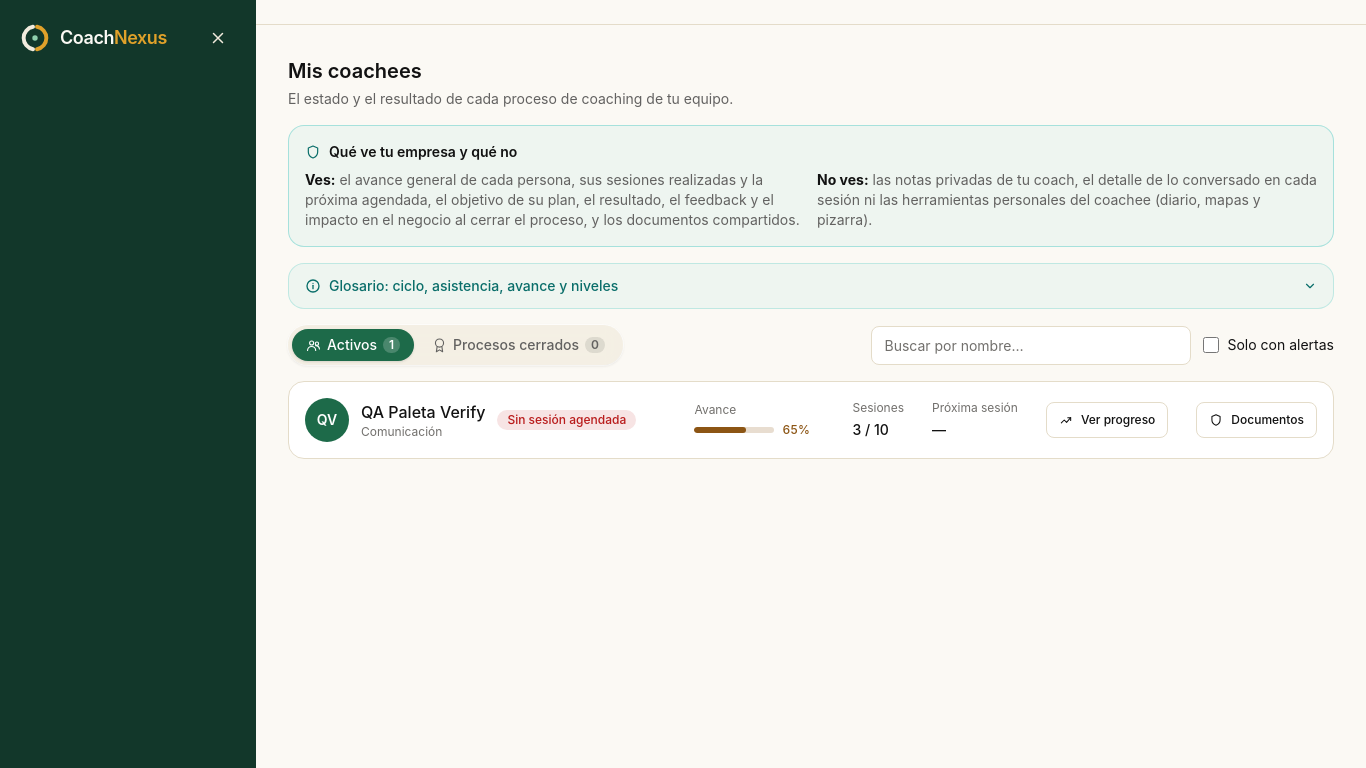
Scenario: CoacheesView (empresa) › opens the progreso modal for an active coachee
The image size is (1366, 768).
Click the button "Ver progreso": (1107, 420) x1=1046 y1=402 x2=1168 y2=438
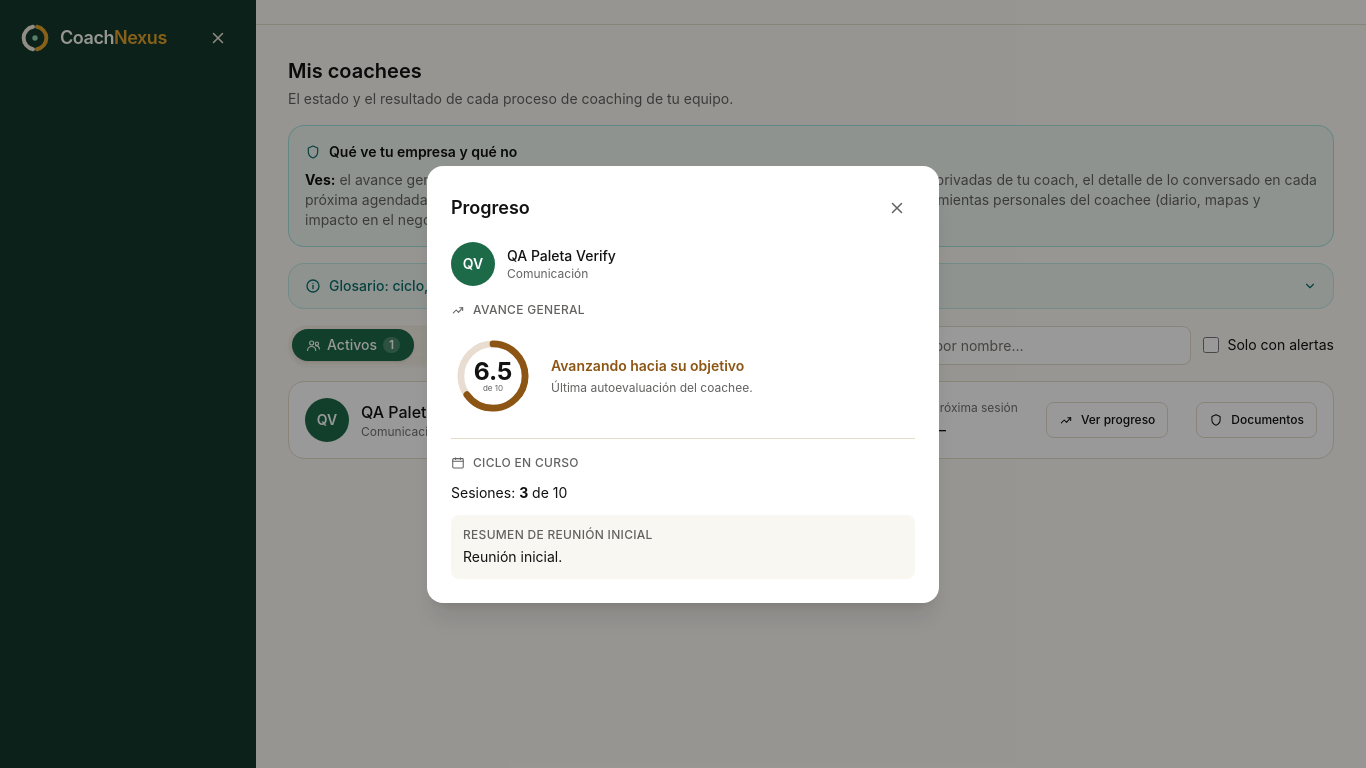
Expected: the text "QA Paleta Verify" is shown, x1=361 y1=400 x2=485 y2=424
Expected: the text "Reunión inicial." is shown, x1=463 y1=548 x2=562 y2=564
